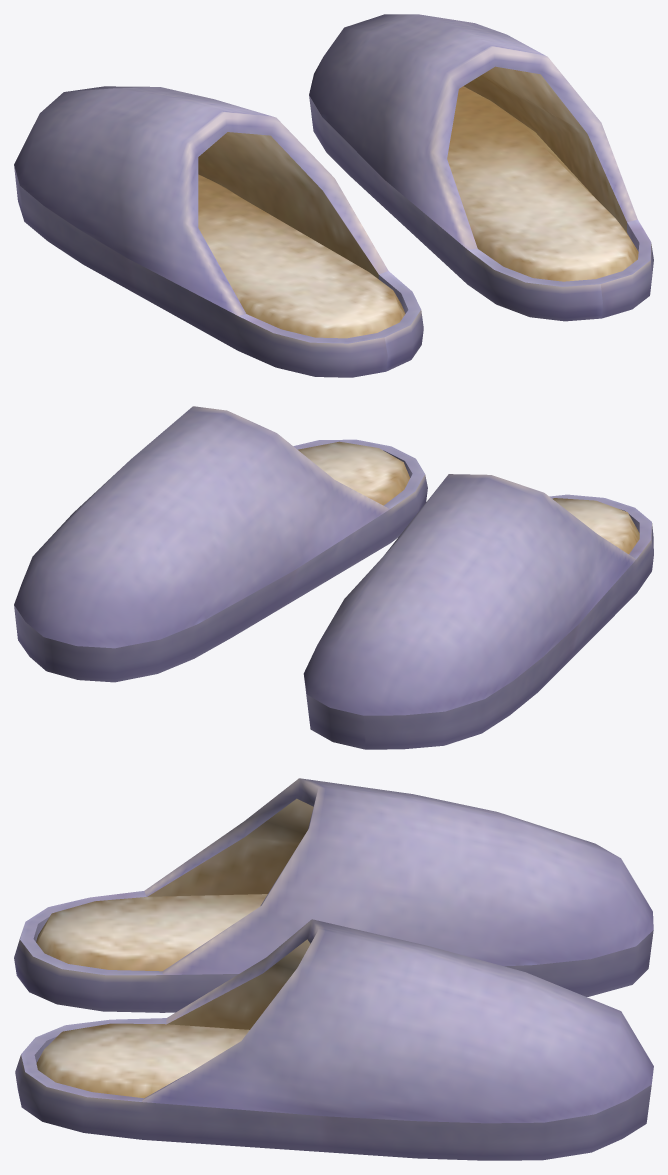
Rendered from XianYiRenJia_01_tuoxie_01.FBX.
3 renders of one model, top to bottom at view 1: azimuth 30°, elevation 25°; view 2: azimuth 150°, elevation 25°; view 3: azimuth 270°, elevation 25°, orthographic. The views are drawn at different scales.
Parts seen in each view (by area): view 1: XianYiRenJia_01_tuoxie_01; view 2: XianYiRenJia_01_tuoxie_01; view 3: XianYiRenJia_01_tuoxie_01.
Boxes of the visible parts, bbox=[...] form: XianYiRenJia_01_tuoxie_01: bbox=[14, 14, 653, 377]; XianYiRenJia_01_tuoxie_01: bbox=[14, 406, 653, 749]; XianYiRenJia_01_tuoxie_01: bbox=[14, 778, 653, 1160].
Size of the model in its own units: 130 by 42.33 by 139.
Materials: 1 (1 with a texture image).
